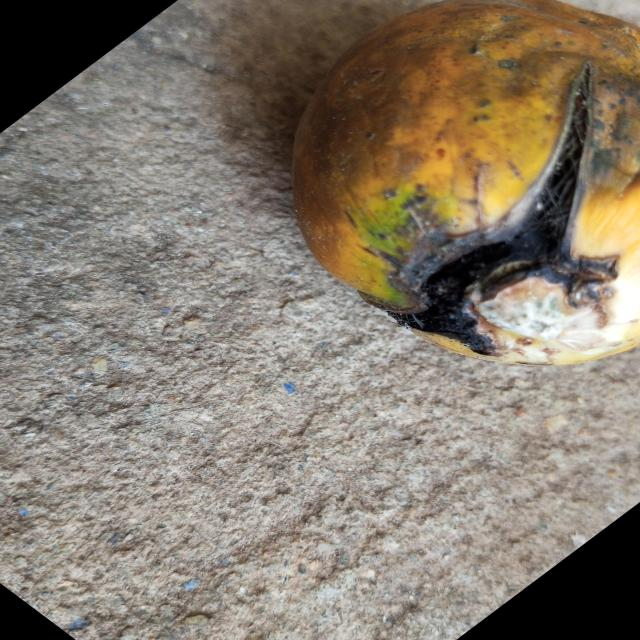damaged: (294, 0, 640, 365)
